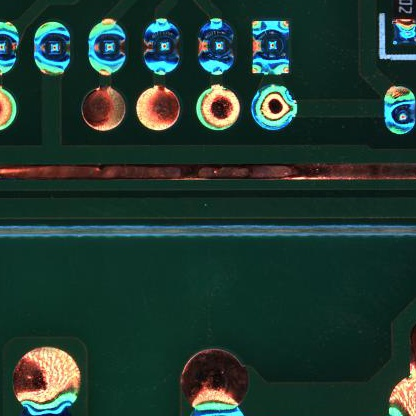spot: (251, 19, 292, 77), (196, 17, 235, 76), (88, 17, 127, 75), (143, 17, 182, 75), (33, 21, 71, 78), (384, 85, 416, 138)
